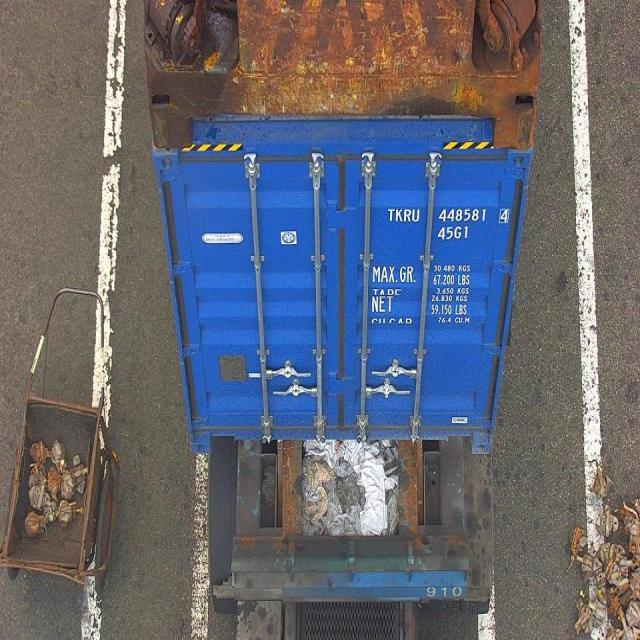ISO: (438, 224, 470, 240)
container_number: (388, 207, 511, 225)
